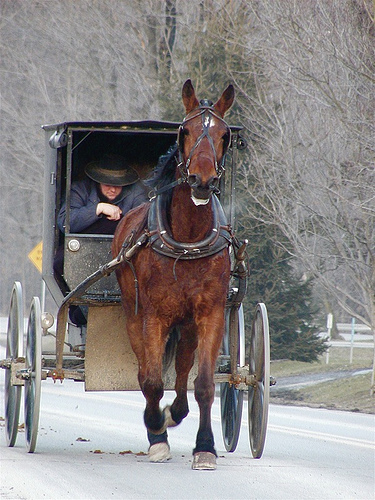horse: (109, 77, 239, 473)
